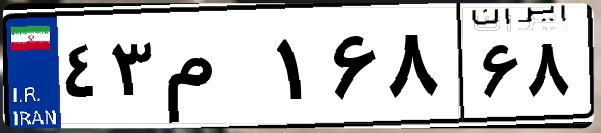1: (270, 28, 330, 110)
3: (110, 28, 158, 98)
4: (57, 26, 110, 100)
6: (330, 28, 385, 110), (475, 38, 525, 113)
8: (385, 28, 445, 110), (525, 38, 570, 115)
م: (158, 20, 270, 120)
